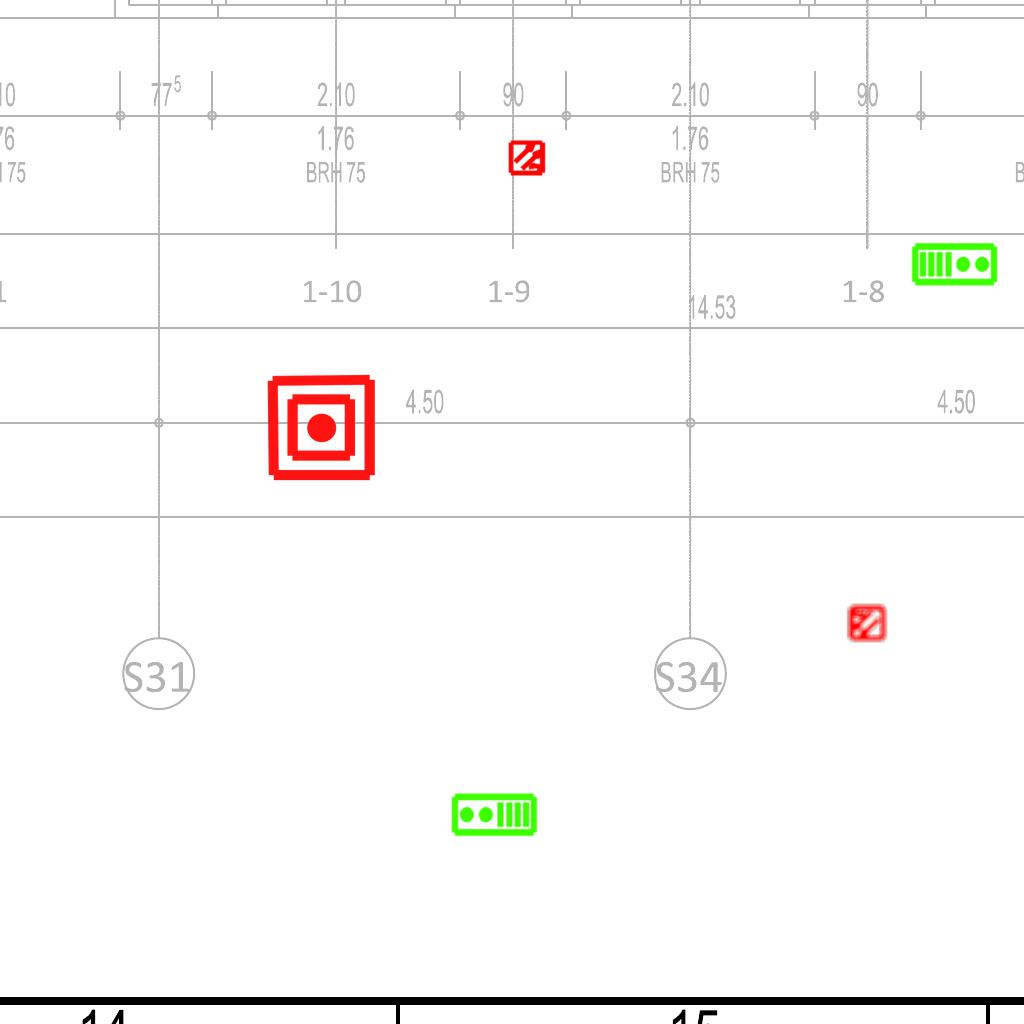Gegensprechanlage_mit_Video: (450, 792, 538, 839), (911, 240, 999, 287)
NAM-Nichtautomatischer_Melder: (265, 371, 378, 484)
OT_Multisensormelder_(Kombination_RMO_WMD): (838, 595, 894, 651), (500, 130, 556, 186)
